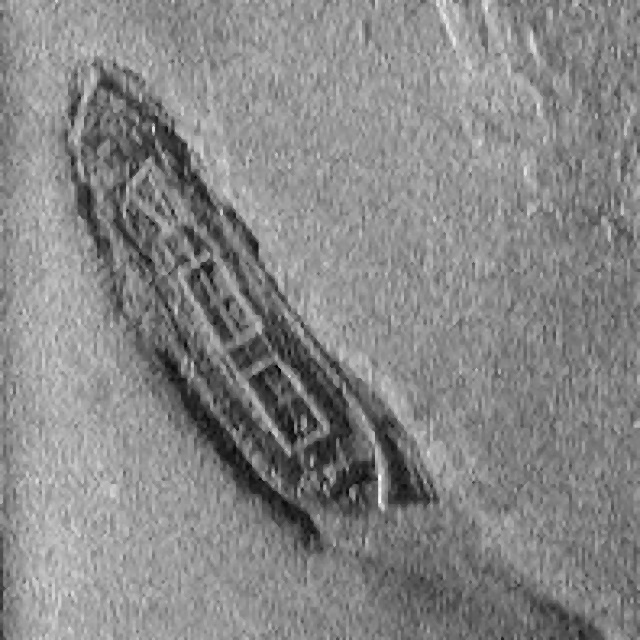Ship: (57, 54, 447, 566)
